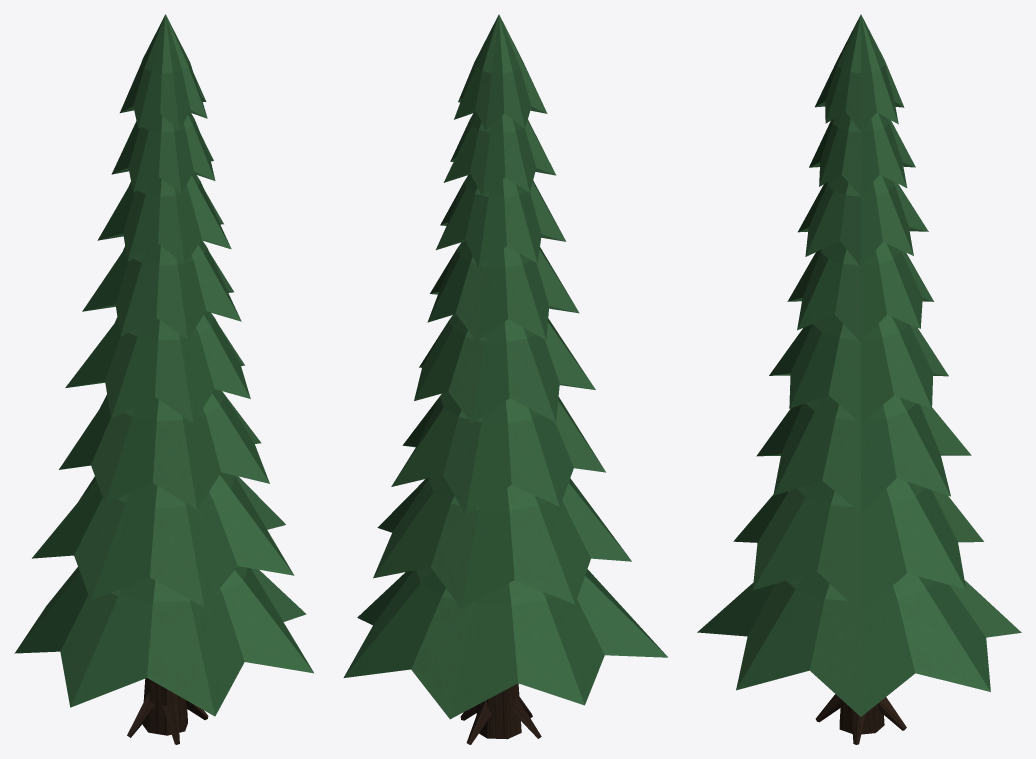
The model's file is tree_pine_01.glb.
3 renders of one model, left to right at view 1: azimuth 30°, elevation 25°; view 2: azimuth 150°, elevation 25°; view 3: azimuth 270°, elevation 25°, orthographic.
Parts seen in each view (by area): view 1: tree_pine_01; view 2: tree_pine_01; view 3: tree_pine_01.
Part boxes in pixels (x1,y1,x2,y2): tree_pine_01: [14, 14, 313, 744]; tree_pine_01: [343, 14, 667, 744]; tree_pine_01: [697, 14, 1021, 744].
Bounding box in the file's own units: 3.34 × 8.33 × 3.44.
3 materials, 3 textured.
